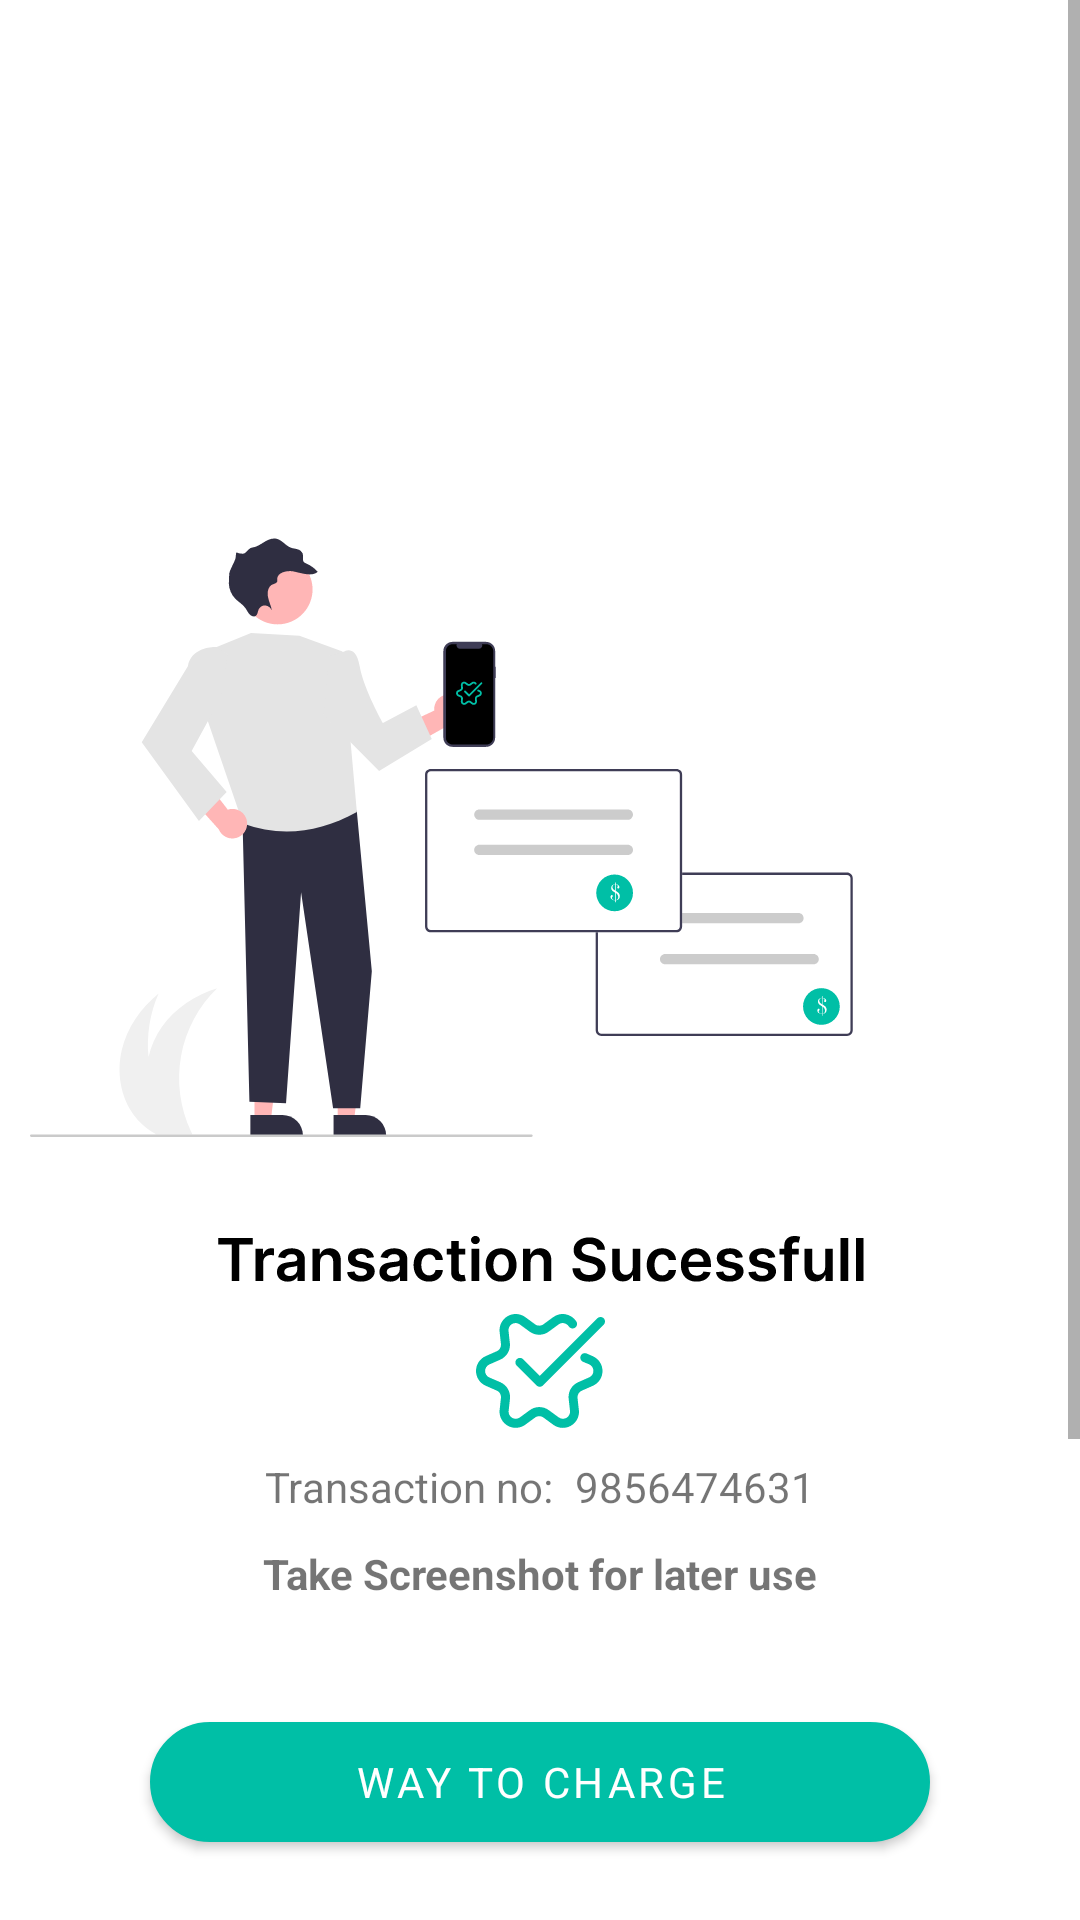

Screen size 1080w x 1920h. Icon name, then its center in pixels as point (x, y):
verified: point (540, 1371)
